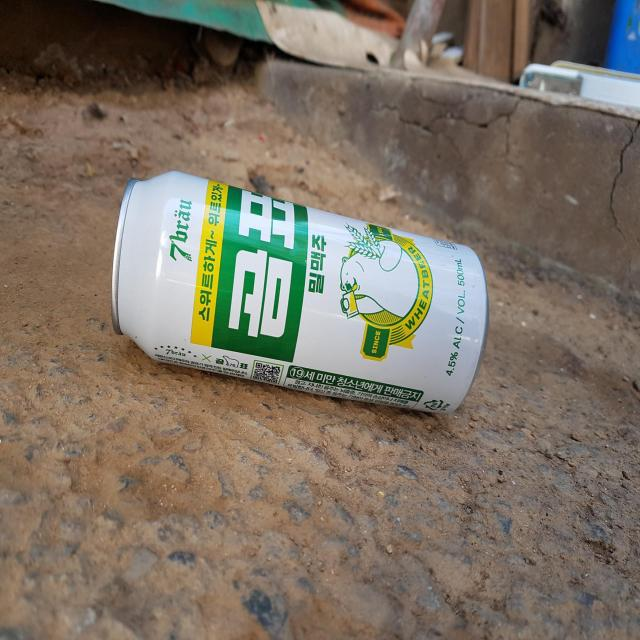can: (110, 172, 490, 414)
